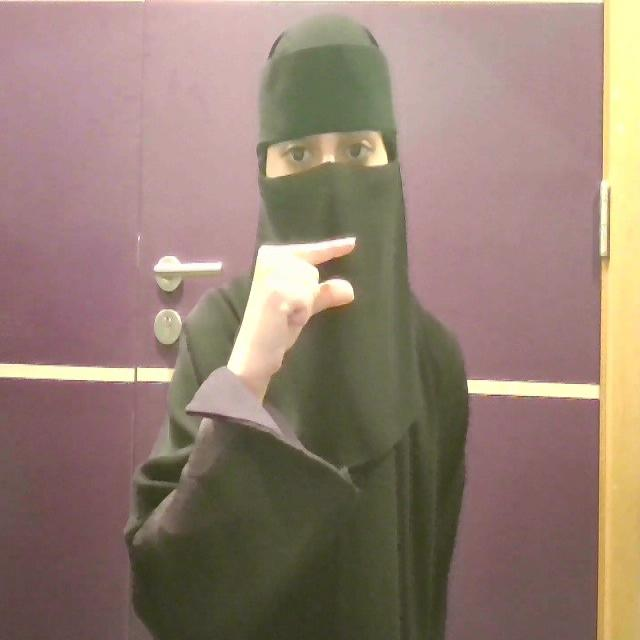fasting: (226, 234, 356, 394)
